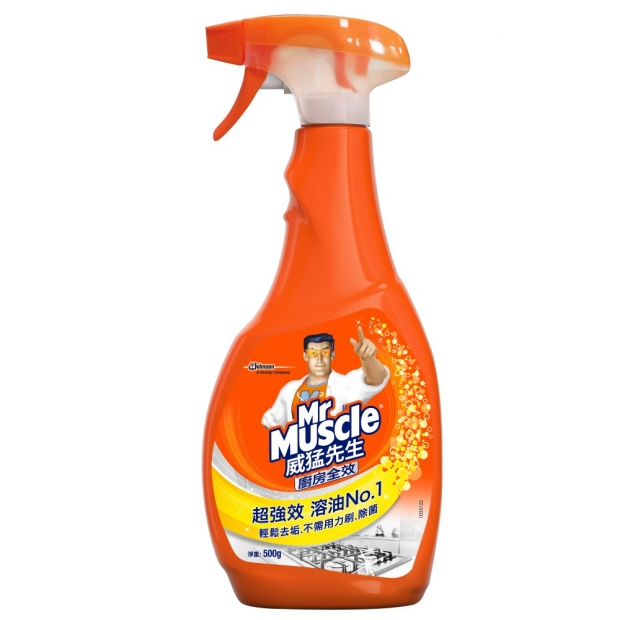cleaner: (191, 13, 446, 613)
